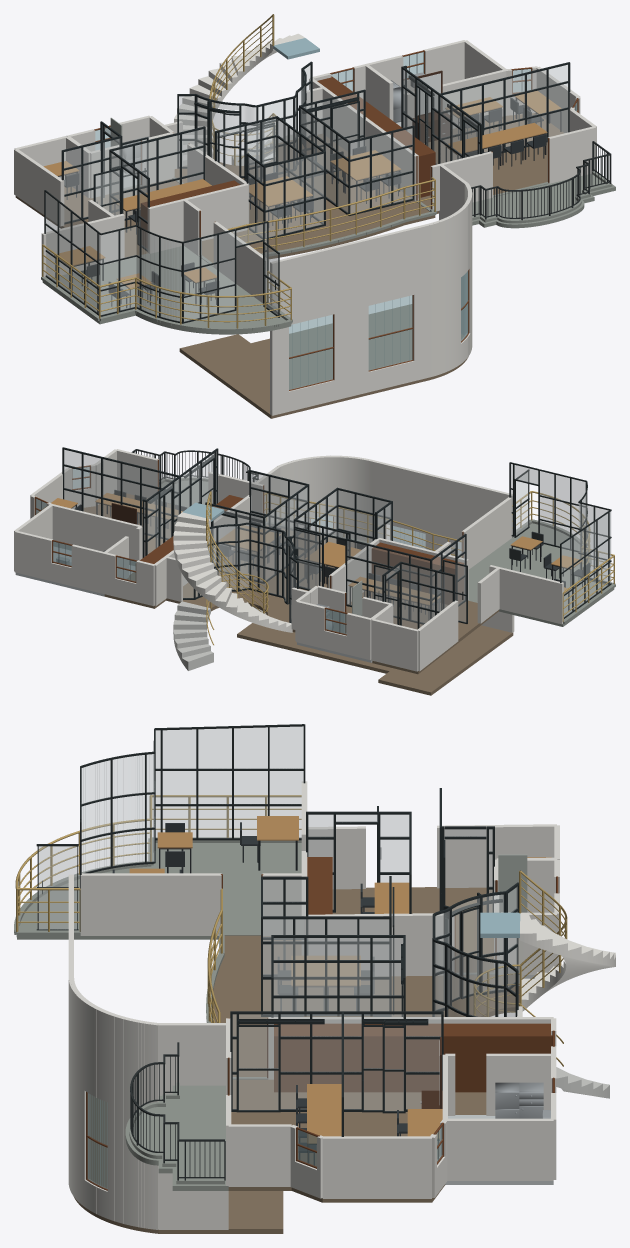
File: first-floor.glb
3 renders of one model, top to bottom at view 1: azimuth 30°, elevation 25°; view 2: azimuth 150°, elevation 25°; view 3: azimuth 270°, elevation 25°, orthographic. The views are drawn at different scales.
Visible parts, largest first — view 1: First Floor - Planning Base 08 | joined wall display | web, Duplex context | ground commons floor | web, FF-02 | floor | web, FF-04 | floor | web, FF06 BALCONY B02 | Level balcony slab - estimated outline | , FF-06 | floor | web, PB04 | First Floor - continuous UP flight | web, FF-06 | FF06-CUPBOARD | web, FF-03 | floor | web, FF02 P01 | Contour glass 33-upper | web, FF02 P01 | Crossline fixed 1 glass 0-upper | web, FF02 P01 | Crossline fixed 1 glass 0-1 | web (+13 smaller); view 2: First Floor - Planning Base 08 | joined wall display | web, Duplex context | ground commons floor | web, PB04 | First Floor - continuous UP flight | web, FF-02 | floor | web, FF-04 | floor | web, FF-03 | FF03-CUPBOARD | web, PB04 | First Floor - incoming last 7 steps only | web, FF-03 | floor | web, FF02 P01 | Contour glass 33-upper | web, FF02 P01 | Crossline fixed 1 glass 0-upper | web, FF-06 | floor | web, FF02 P01 | Contour glass 33-1 | web (+32 smaller); view 3: First Floor - Planning Base 08 | joined wall display | web, FF-06 | FF06-CUPBOARD | web, FF-04 | floor | web, FF-02 | floor | web, FF06 BALCONY B02 | Level balcony slab - estimated outline | , FF-06 | floor | web, FF02 P01 | Contour glass 33-upper | web, Duplex context | ground commons floor | web, FF02 P01 | Contour glass 33-1 | web, FF-03 | floor | web, PB04 | First Floor - continuous UP flight | web, FF02 P01 | Contour glass 33-0 | web (+34 smaller).
Part boxes in pixels (box(x1,y1,x2,y2)): First Floor - Planning Base 08 | joined wall display | web: box(14, 40, 596, 415); Duplex context | ground commons floor | web: box(179, 304, 468, 418); FF-02 | floor | web: box(42, 246, 291, 334); FF-04 | floor | web: box(174, 134, 435, 262); FF06 BALCONY B02 | Level balcony slab - estimated outline | : box(472, 173, 615, 228); FF-06 | floor | web: box(418, 113, 563, 213); PB04 | First Floor - continuous UP flight | web: box(174, 33, 304, 165); FF-06 | FF06-CUPBOARD | web: box(317, 76, 435, 197); FF-03 | floor | web: box(15, 179, 179, 257); FF02 P01 | Contour glass 33-upper | web: box(45, 192, 100, 263); FF02 P01 | Crossline fixed 1 glass 0-upper | web: box(184, 231, 234, 269); FF02 P01 | Crossline fixed 1 glass 0-1 | web: box(184, 260, 234, 296); First Floor - Planning Base 08 | joined wall display | web: box(14, 449, 563, 671); Duplex context | ground commons floor | web: box(237, 614, 513, 695); PB04 | First Floor - continuous UP flight | web: box(173, 512, 292, 632); FF-02 | floor | web: box(468, 523, 614, 626); FF-04 | floor | web: box(166, 525, 354, 632); FF-03 | FF03-CUPBOARD | web: box(371, 542, 464, 604); PB04 | First Floor - incoming last 7 steps only | web: box(173, 601, 213, 670); FF-03 | floor | web: box(346, 591, 498, 674); FF02 P01 | Contour glass 33-upper | web: box(562, 512, 610, 572); FF02 P01 | Crossline fixed 1 glass 0-upper | web: box(540, 471, 585, 504); FF-06 | floor | web: box(83, 493, 187, 608); FF02 P01 | Contour glass 33-1 | web: box(562, 539, 610, 594); First Floor - Planning Base 08 | joined wall display | web: box(68, 781, 559, 1229); FF-06 | FF06-CUPBOARD | web: box(274, 1023, 552, 1092); FF-04 | floor | web: box(211, 935, 519, 1076); FF-02 | floor | web: box(16, 843, 301, 939); FF06 BALCONY B02 | Level balcony slab - estimated outline | : box(125, 1085, 228, 1190); FF-06 | floor | web: box(228, 1079, 486, 1202); FF02 P01 | Contour glass 33-upper | web: box(156, 726, 303, 768); Duplex context | ground commons floor | web: box(74, 1094, 283, 1233); FF02 P01 | Contour glass 33-1 | web: box(156, 771, 303, 803); FF-03 | floor | web: box(332, 887, 493, 972); PB04 | First Floor - continuous UP flight | web: box(520, 912, 615, 1011); FF02 P01 | Contour glass 33-0 | web: box(156, 806, 301, 837).
Size of the model in its own units: 18.49 by 7.81 by 13.13.
